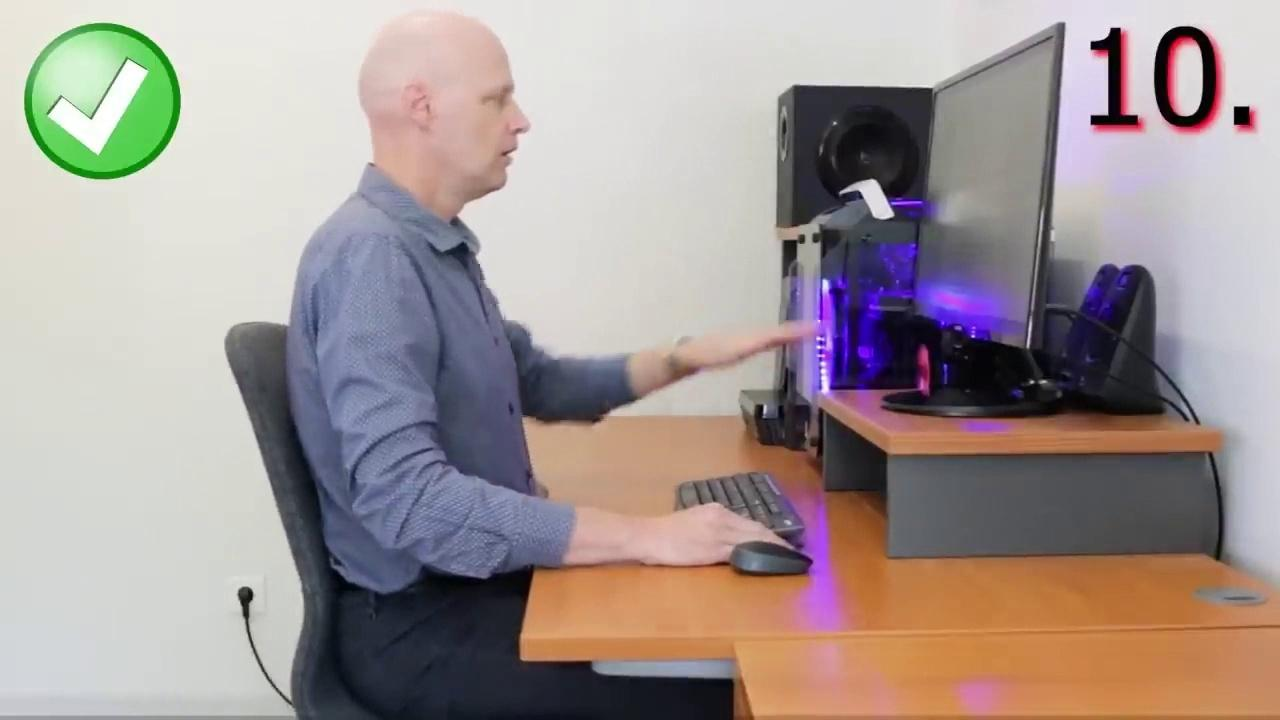GoodPosture: (285, 11, 814, 719)
